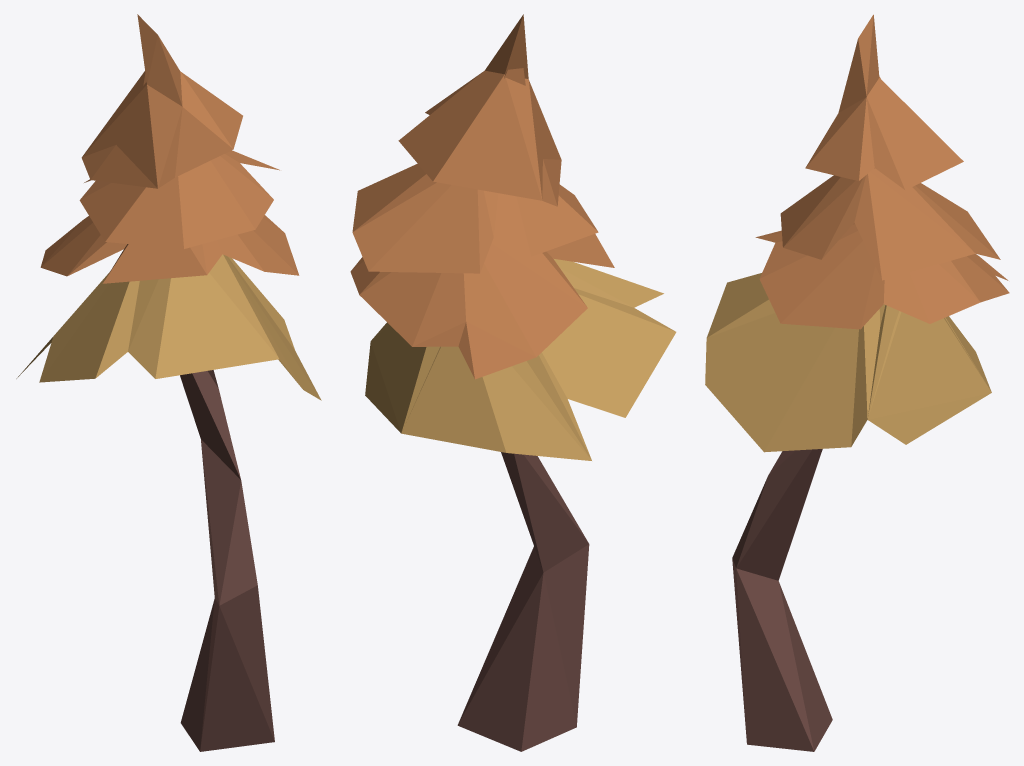
The model's file is PineTree_Autumn_4.lod3.glb.
3 views of the same model, side by side, from view 1: azimuth 30°, elevation 25°; view 2: azimuth 150°, elevation 25°; view 3: azimuth 270°, elevation 25° (orthographic). The views are drawn at different scales.
Parts seen in each view (by area): view 1: PineTree_Autumn_4; view 2: PineTree_Autumn_4; view 3: PineTree_Autumn_4.
Part boxes in pixels (bbox=[...]): PineTree_Autumn_4: bbox=[16, 14, 321, 751]; PineTree_Autumn_4: bbox=[350, 14, 676, 751]; PineTree_Autumn_4: bbox=[705, 14, 1009, 751].
Bounding box in the file's own units: 1.22 × 3.35 × 1.33.
